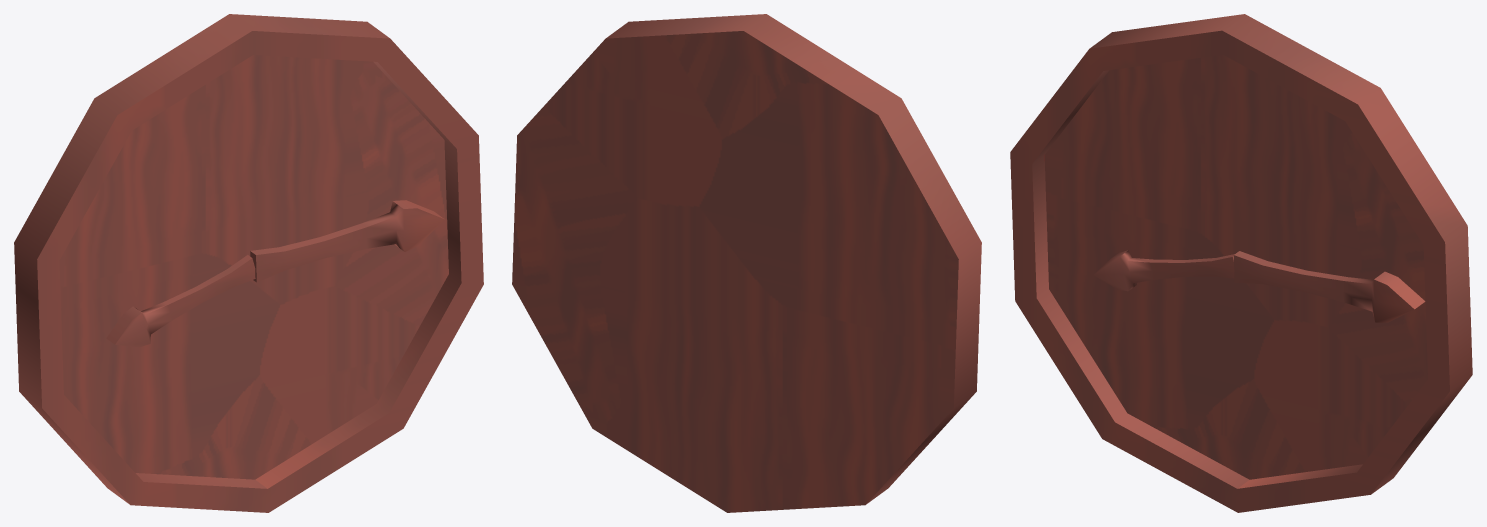
File: SM_KooKoo_Clockface.fbx
The picture shows the model from 3 angles, left to right: view 1: azimuth 30°, elevation 25°; view 2: azimuth 150°, elevation 25°; view 3: azimuth 330°, elevation 25°; orthographic projection.
Visible parts, largest first — view 1: KooKoo_Clock_combined_Bird_05; view 2: KooKoo_Clock_combined_Bird_05; view 3: KooKoo_Clock_combined_Bird_05.
Boxes of the visible parts, x1=… form: KooKoo_Clock_combined_Bird_05: x1=14, y1=14, x2=483, y2=512; KooKoo_Clock_combined_Bird_05: x1=512, y1=14, x2=981, y2=512; KooKoo_Clock_combined_Bird_05: x1=1010, y1=14, x2=1472, y2=512.
Bounding box in the file's own units: 145 × 151 × 12.96.
Materials: 1 (1 with a texture image).
